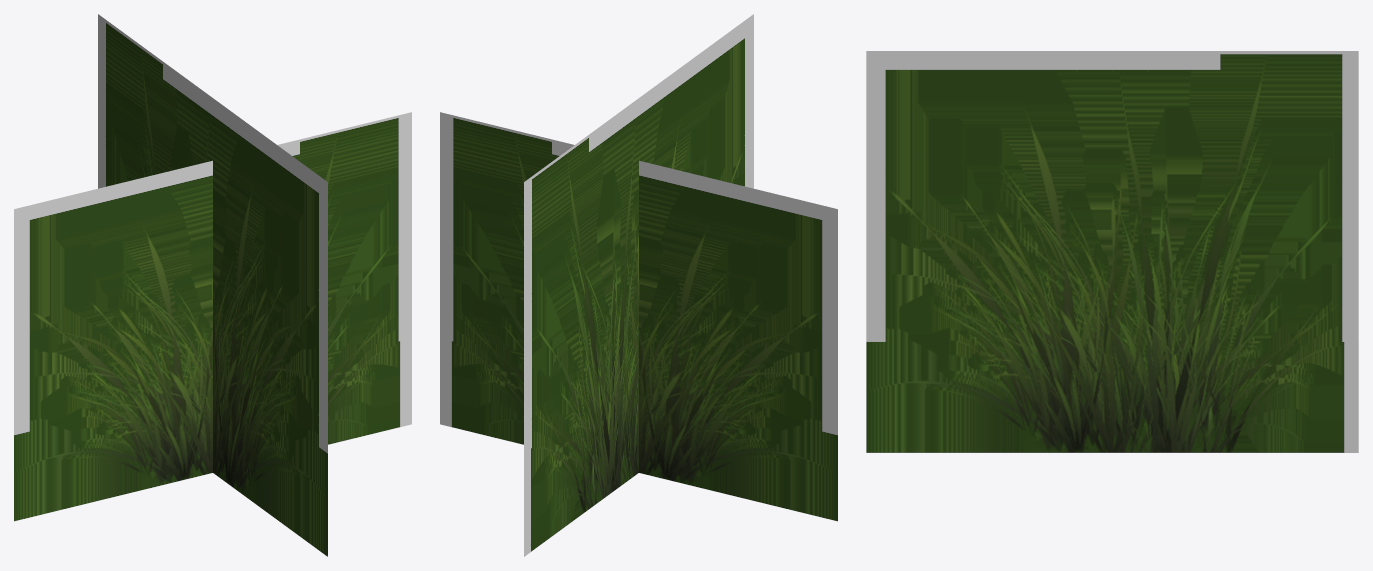
File: Grass_GEO 1.fbx
3 views of the same model, side by side, from view 1: azimuth 30°, elevation 25°; view 2: azimuth 150°, elevation 25°; view 3: azimuth 270°, elevation 25° (orthographic). The views are drawn at different scales.
Parts seen in each view (by area): view 1: Grass_GEO; view 2: Grass_GEO; view 3: Grass_GEO.
Boxes of the visible parts, x1=… form: Grass_GEO: x1=14, y1=14, x2=411, y2=556; Grass_GEO: x1=440, y1=14, x2=837, y2=556; Grass_GEO: x1=866, y1=51, x2=1358, y2=452.
Bounding box in the file's own units: 30 × 27.01 × 30.
Materials: 1 (1 with a texture image).
